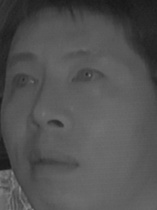eye: (71, 63, 105, 87), (5, 71, 41, 92)
mouth: (22, 148, 82, 180)
